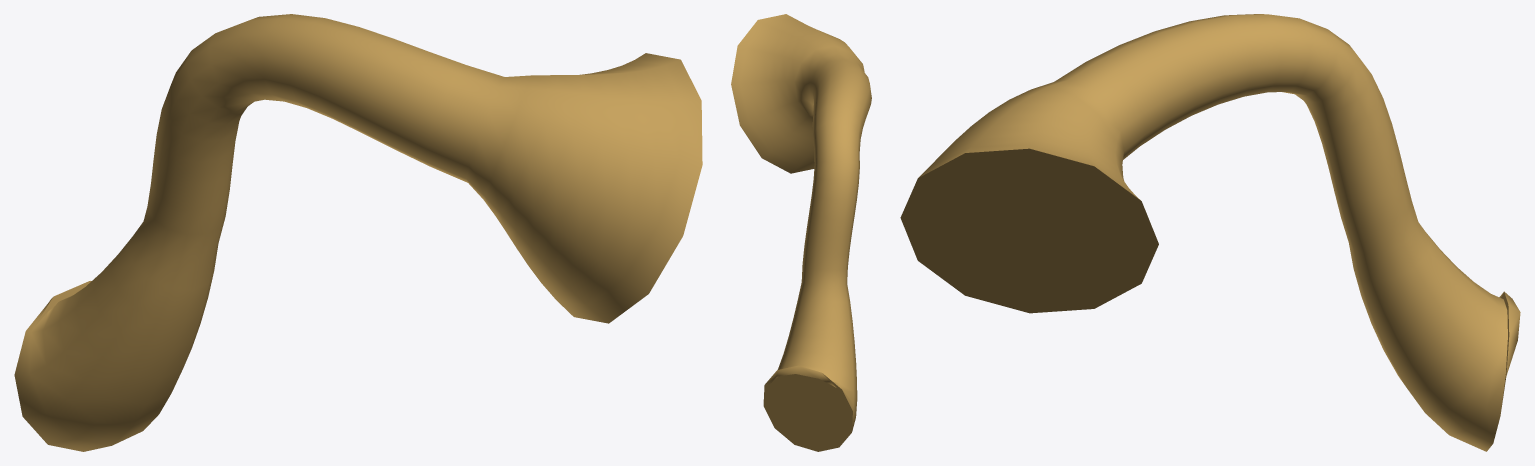
The picture shows the model from 3 angles, left to right: view 1: azimuth 30°, elevation 25°; view 2: azimuth 150°, elevation 25°; view 3: azimuth 270°, elevation 25°; orthographic projection. The views are drawn at different scales.
Visible parts, largest first — view 1: 左侧前交叉韧带; view 2: 左侧前交叉韧带; view 3: 左侧前交叉韧带.
Boxes of the visible parts, x1,y1,x2,y2 form: 左侧前交叉韧带: (14, 14, 702, 451); 左侧前交叉韧带: (731, 14, 871, 451); 左侧前交叉韧带: (900, 14, 1520, 451).
Bounding box in the file's own units: 0.0312 × 0.0362 × 0.0438.
